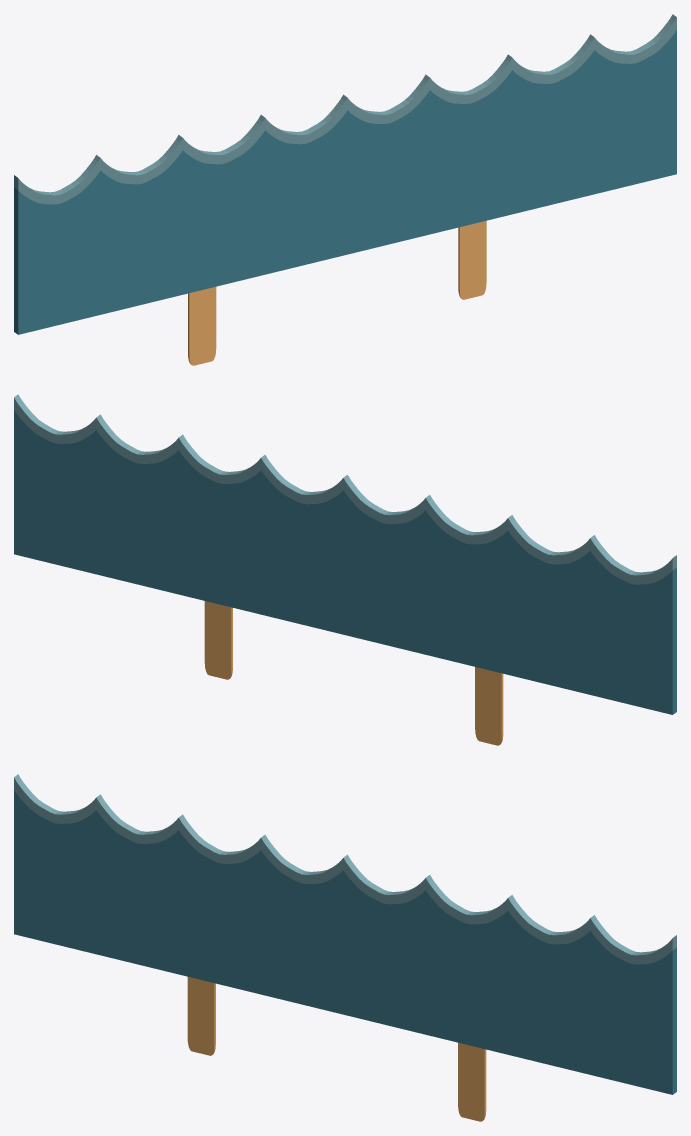
Rendered from Puppet_Waves_2.fbx.
3 renders of one model, top to bottom at view 1: azimuth 30°, elevation 25°; view 2: azimuth 150°, elevation 25°; view 3: azimuth 330°, elevation 25°, orthographic.
Visible parts, largest first — view 1: Puppet Waves 2; view 2: Puppet Waves 2; view 3: Puppet Waves 2.
Part boxes in pixels (x1,y1,x2,y2): Puppet Waves 2: [14, 14, 676, 365]; Puppet Waves 2: [14, 394, 676, 745]; Puppet Waves 2: [14, 774, 676, 1121].
Size of the model in its own units: 617 by 208 by 7.
